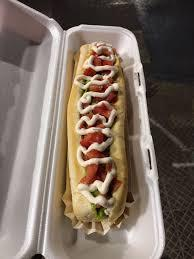Completos: (65, 36, 131, 232)
